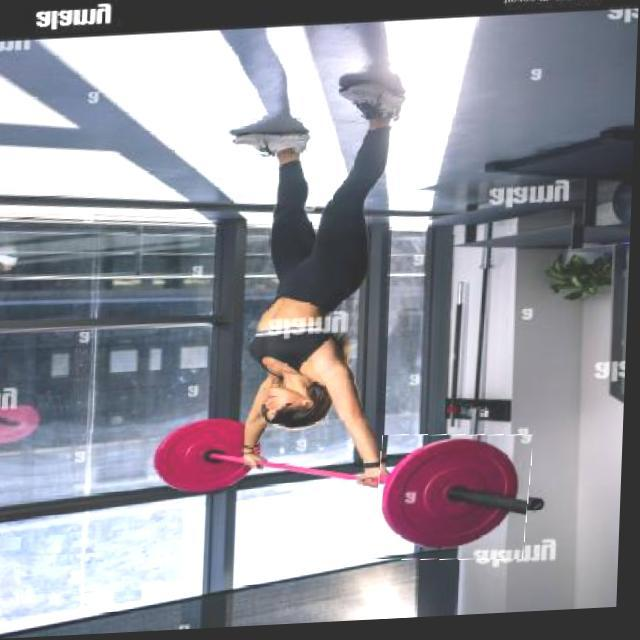barbell: (378, 436, 536, 570)
